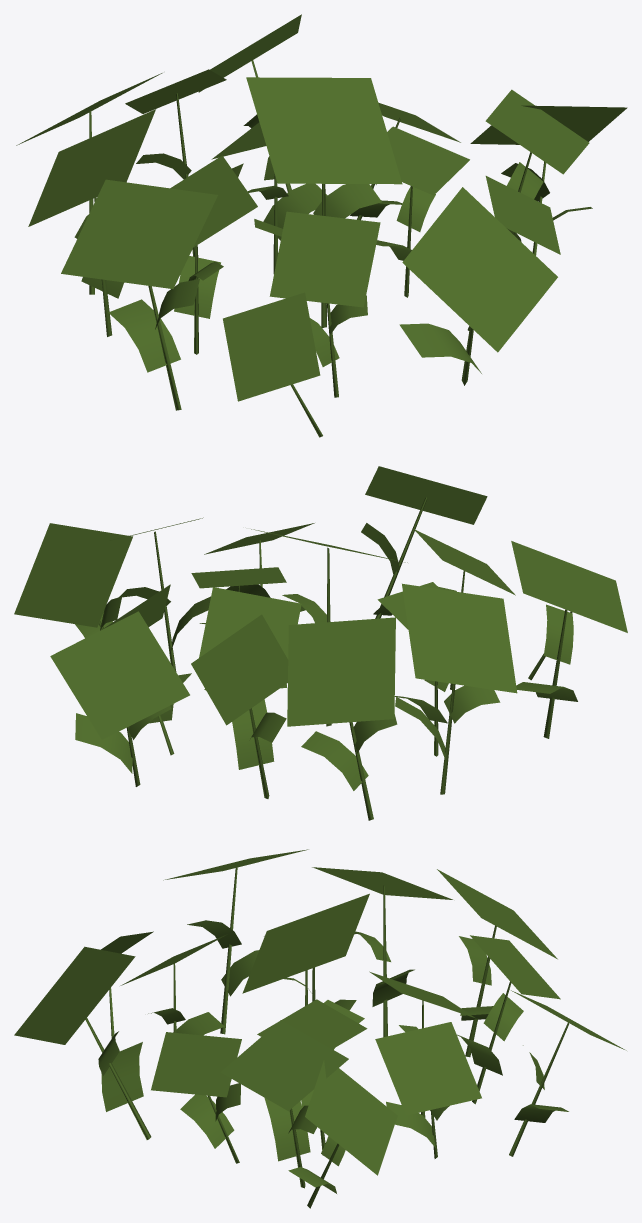
File: Flower_1_Multi.glb
3 renders of one model, top to bottom at view 1: azimuth 30°, elevation 25°; view 2: azimuth 150°, elevation 25°; view 3: azimuth 270°, elevation 25°, orthographic. The views are drawn at different scales.
Visible parts, largest first — view 1: Flower_1_Multi; view 2: Flower_1_Multi; view 3: Flower_1_Multi.
Boxes of the visible parts, x1=… form: Flower_1_Multi: x1=16, y1=14, x2=627, y2=437; Flower_1_Multi: x1=14, y1=466, x2=627, y2=820; Flower_1_Multi: x1=14, y1=849, x2=626, y2=1208.
Size of the model in its own units: 0.7598 by 0.288 by 0.7704.
